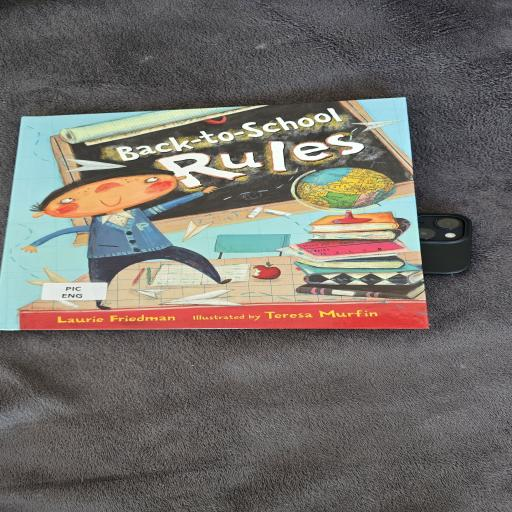phone: (424, 208, 480, 289)
